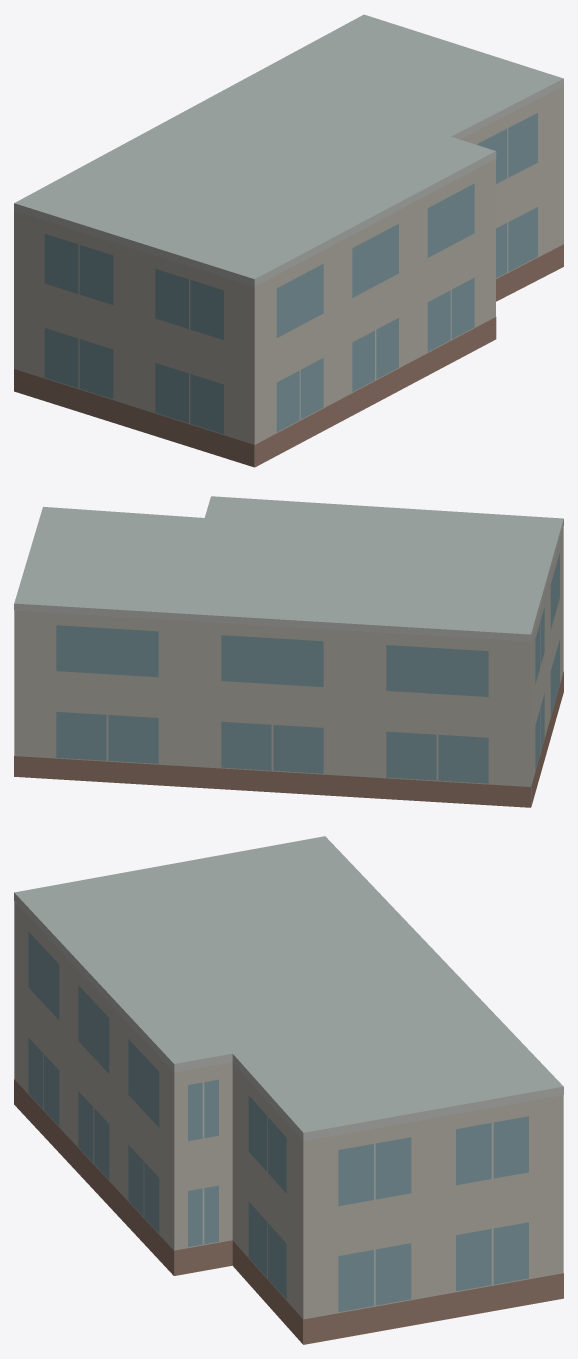
The model's file is survey-upis-33006509.glb.
The picture shows the model from 3 angles, top to bottom: view 1: azimuth 30°, elevation 25°; view 2: azimuth 150°, elevation 25°; view 3: azimuth 270°, elevation 25°; orthographic projection. The views are drawn at different scales.
Visible parts, largest first — view 1: survey-upis-33006509.tmp; view 2: survey-upis-33006509.tmp; view 3: survey-upis-33006509.tmp.
Boxes of the visible parts, x1,y1,x2,y2 form: survey-upis-33006509.tmp: [14, 14, 563, 467]; survey-upis-33006509.tmp: [14, 496, 563, 807]; survey-upis-33006509.tmp: [14, 836, 563, 1344].
Size of the model in its own units: 18.33 by 6.1 by 14.35.
